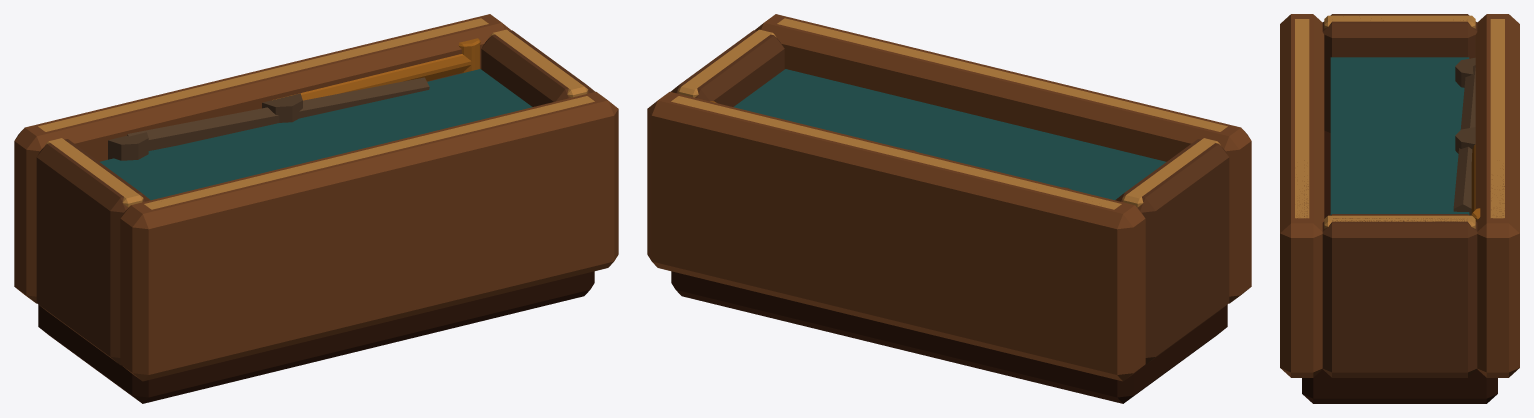
File: water_trough.e3.glb
3 renders of one model, left to right at view 1: azimuth 30°, elevation 25°; view 2: azimuth 150°, elevation 25°; view 3: azimuth 270°, elevation 25°, orthographic. The views are drawn at different scales.
Parts seen in each view (by area): view 1: WaterTroughE3; view 2: WaterTroughE3; view 3: WaterTroughE3.
Part boxes in pixels (x1,y1,x2,y2): WaterTroughE3: (14,14,618,403); WaterTroughE3: (647,14,1251,403); WaterTroughE3: (1280,14,1519,403).
Bounding box in the file's own units: 1.64 × 0.65 × 0.76.
1 material, 1 textured.
